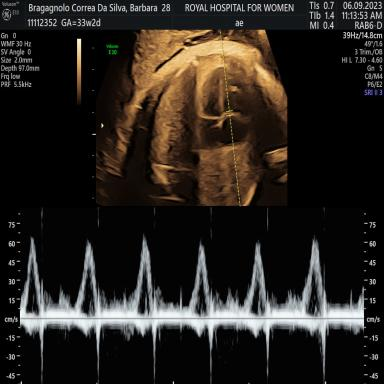Ultrasound-Waves: (23, 208, 363, 384)
